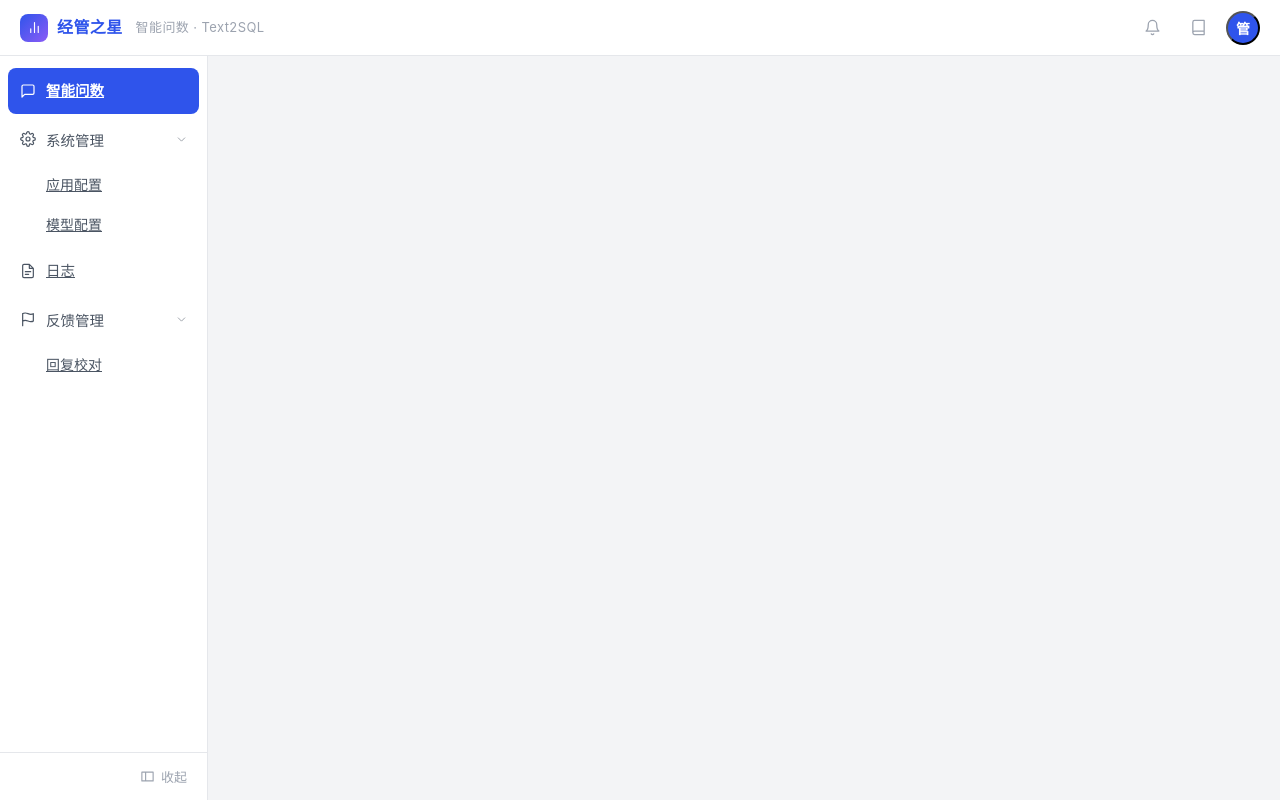
Test: AppShell — 账号菜单 › 后端探活失败时明确告知连不上
Click the button named "账号菜单" at [1243, 28], box [1226,10,1260,44]
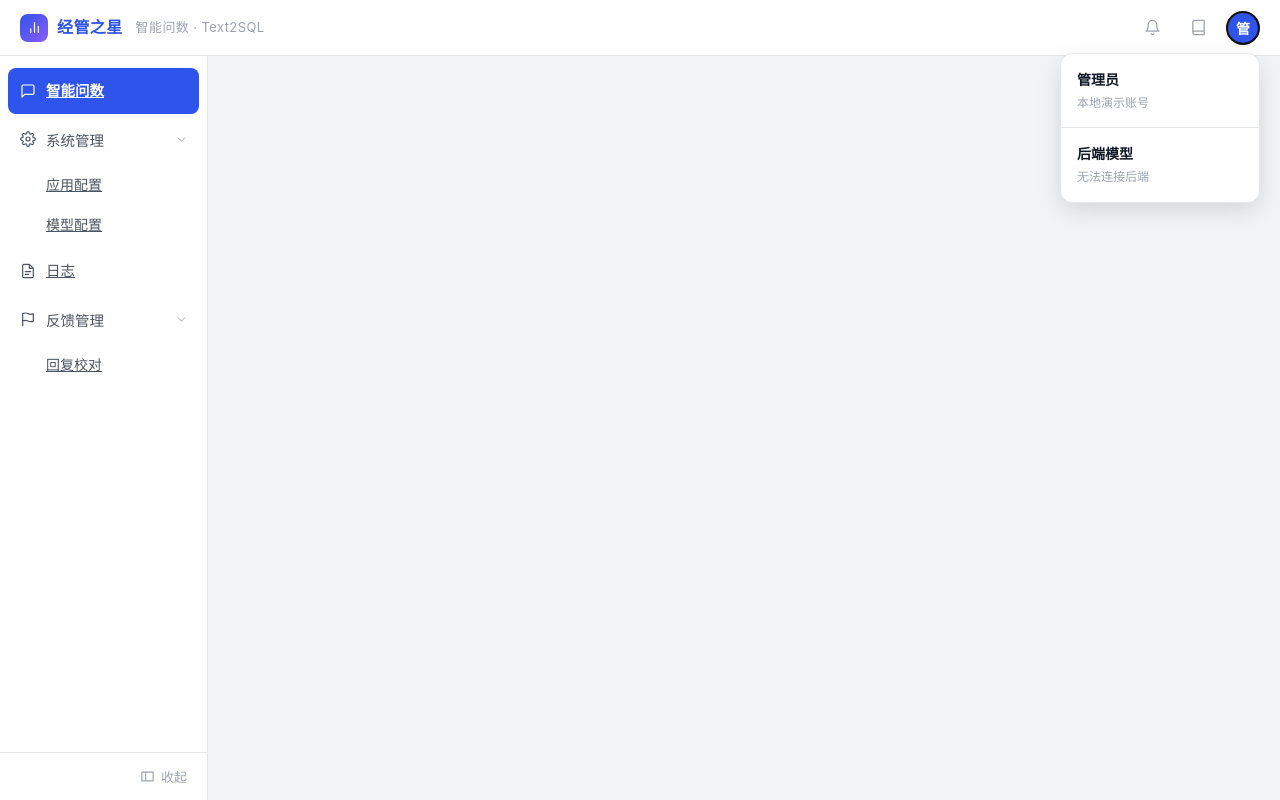
Result: the text "无法连接后端" is shown at [1077,170,1149,184]
